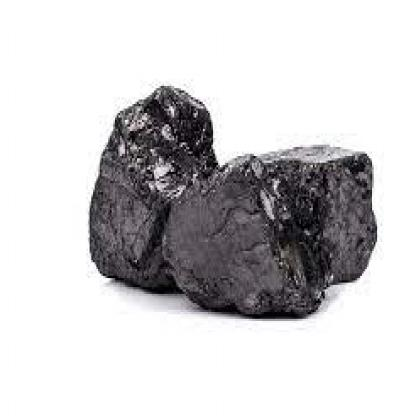Sedimentary_coal: (162, 108, 389, 346), (59, 86, 232, 314)
